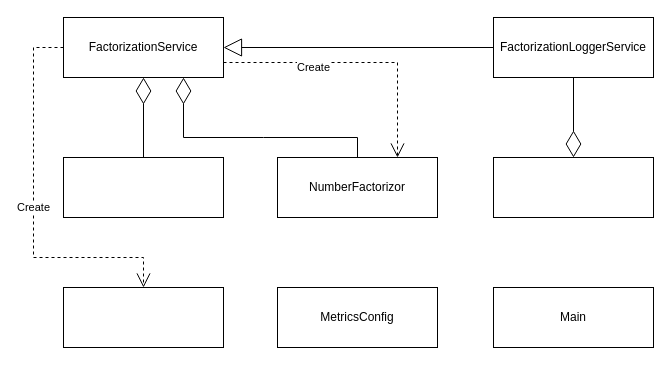
The diagram is 671 pixels wide and 365 high, and some of its shapes have lost their labels. Here are the shapes that lost their labels. From the top down, the centre of each, then its label:
pixel 143 187: <<Interface>> FactorizationRepository
pixel 573 187: FactorizationController
pixel 143 317: FactorizationResult
